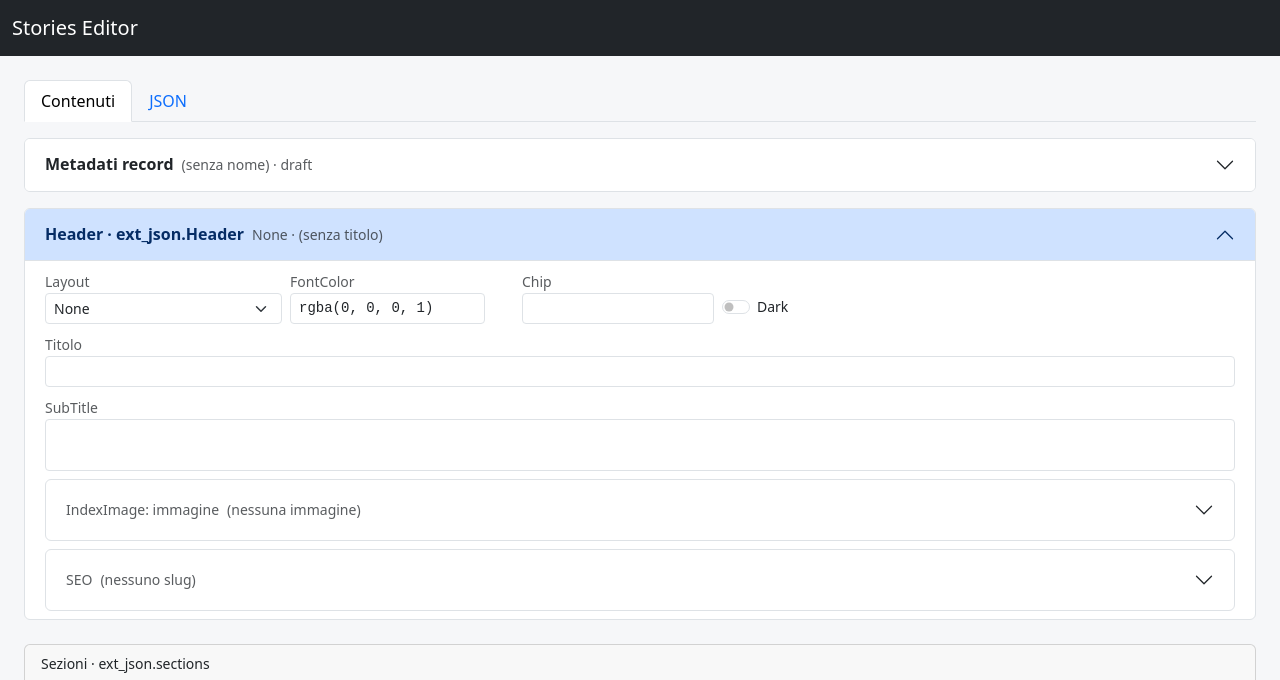
StoryWorkbench › Salva su file: errore → alert
Click the tab "JSON" at (168, 101), box [132,80,204,122]
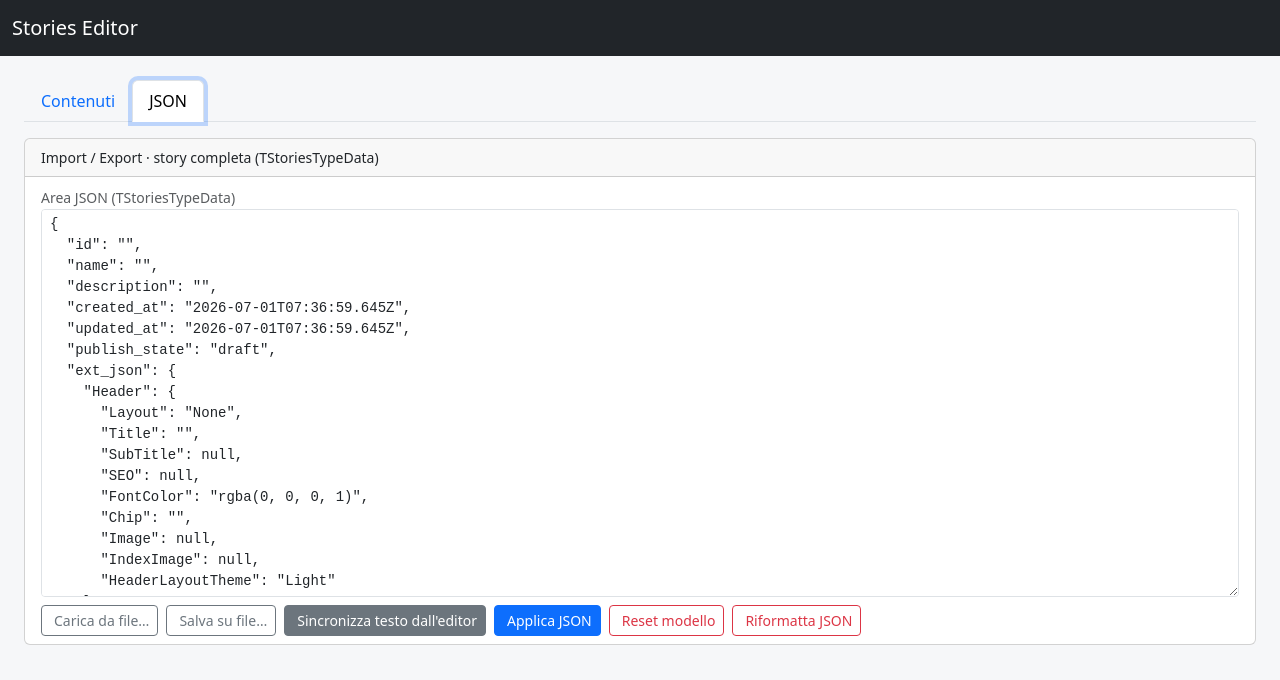
Click the button "Salva su file…" at (221, 620), box [166,605,276,636]
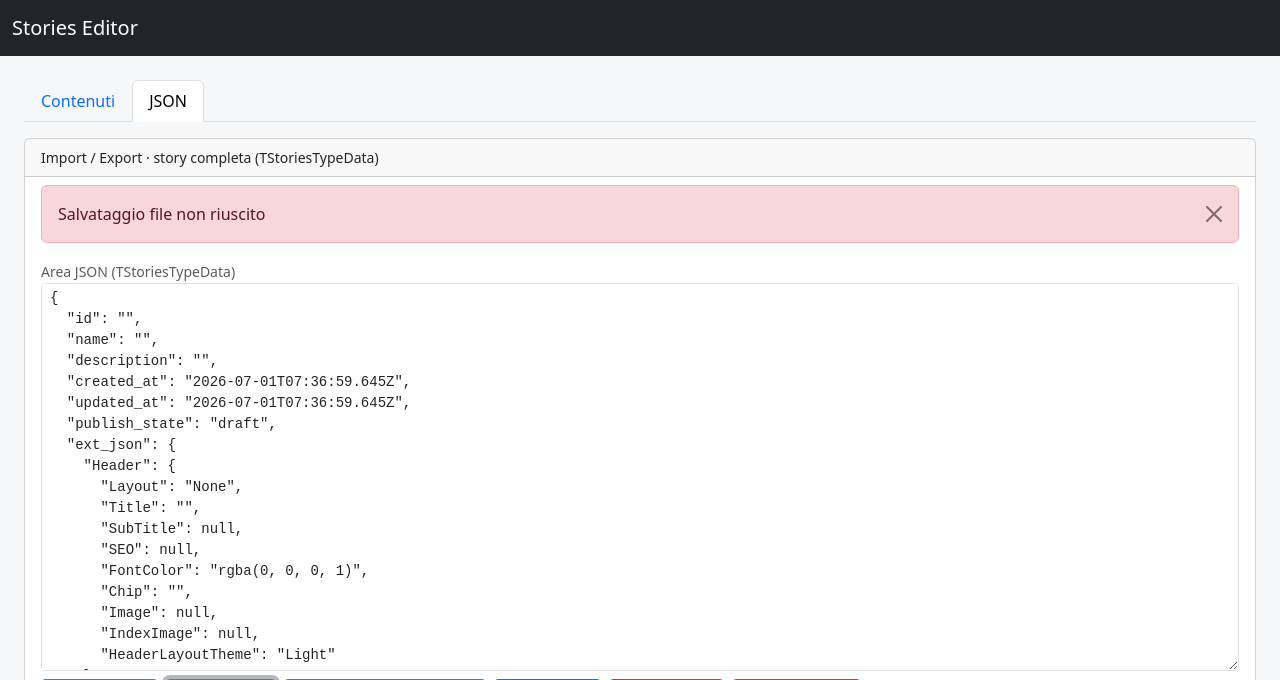
Result: the message reads "Salvataggio file non riuscito" at [58,203,266,225]
